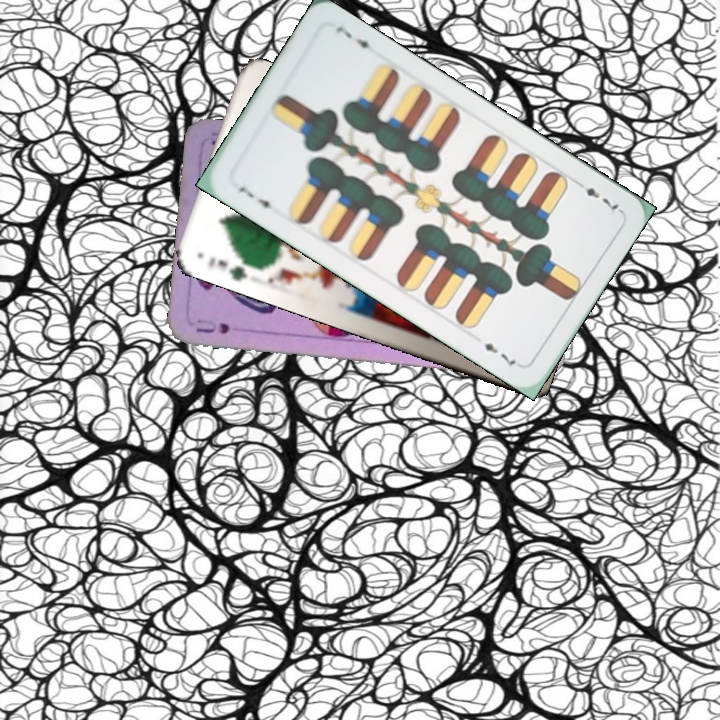E7: (571, 177, 624, 214), (234, 182, 278, 216)
GK: (204, 252, 250, 284)
SU: (192, 315, 232, 337)
